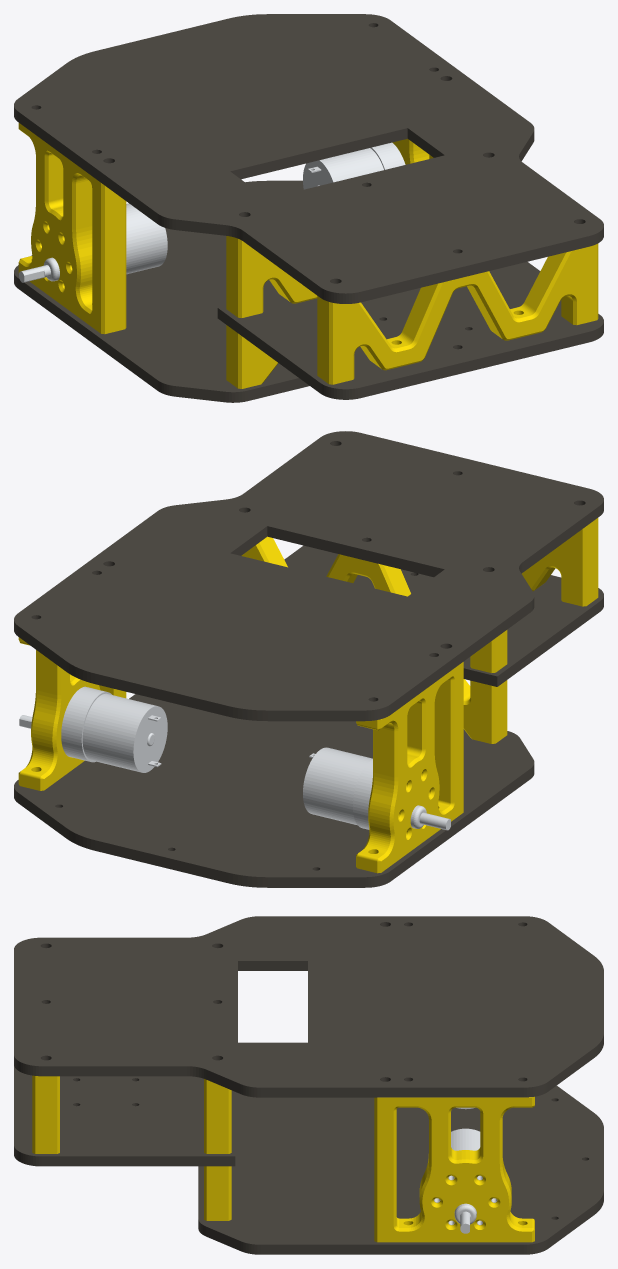
File: Chasis_pinna_bot.dae
3 renders of one model, top to bottom at view 1: azimuth 30°, elevation 25°; view 2: azimuth 150°, elevation 25°; view 3: azimuth 270°, elevation 25°, orthographic. The views are drawn at different scales.
Parts seen in each view (by area): view 1: 5f204bf3cfbe131594dcaa5b (×10); view 2: 5f204bf3cfbe131594dcaa5b (×10); view 3: 5f204bf3cfbe131594dcaa5b (×8).
Boxes of the visible parts, x1,y1,x2,y2 form: 5f204bf3cfbe131594dcaa5b (×10): (14, 14, 603, 402); 5f204bf3cfbe131594dcaa5b (×10): (14, 431, 603, 887); 5f204bf3cfbe131594dcaa5b (×8): (14, 916, 603, 1254).
Bounding box in the file's own units: 0.252 × 0.32 × 0.1.
